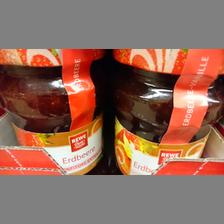Marmelade: (109, 48, 221, 174), (0, 48, 104, 174)
